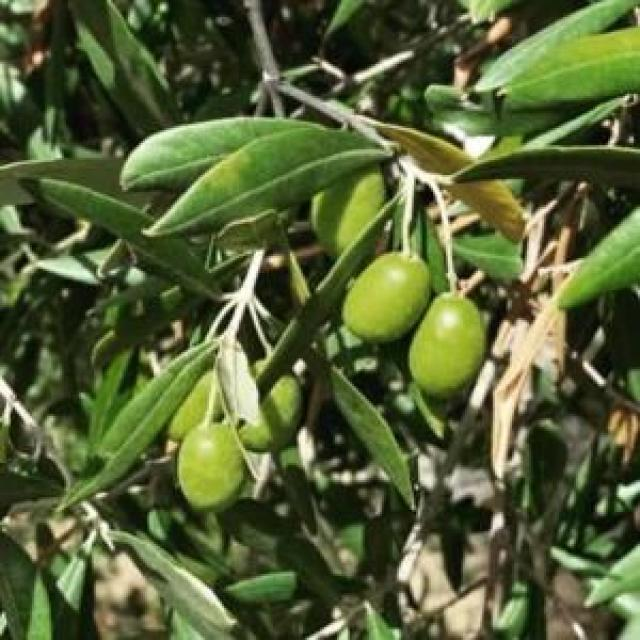Healthy: (410, 292, 484, 401), (341, 252, 425, 339), (177, 425, 247, 510)
